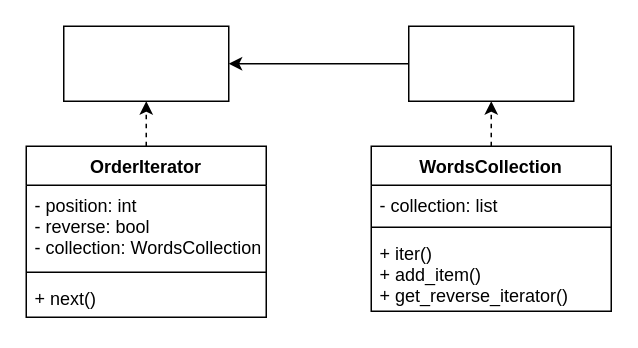
Image size: 638x348. Some labels were removed from this diagram. Here are the shapes that lost their labels. From the top down, the centre of each, then its label:
point (145, 63): Iterator + next()
point (490, 63): Iterable + iter()
